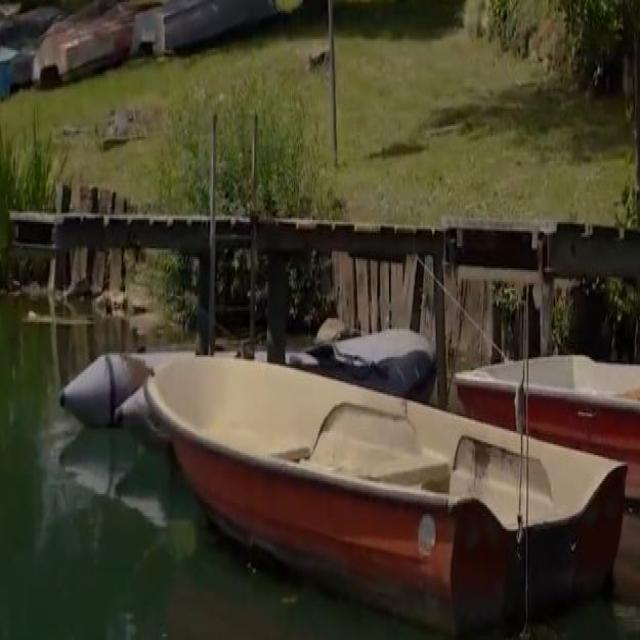boat: (139, 348, 628, 608)
